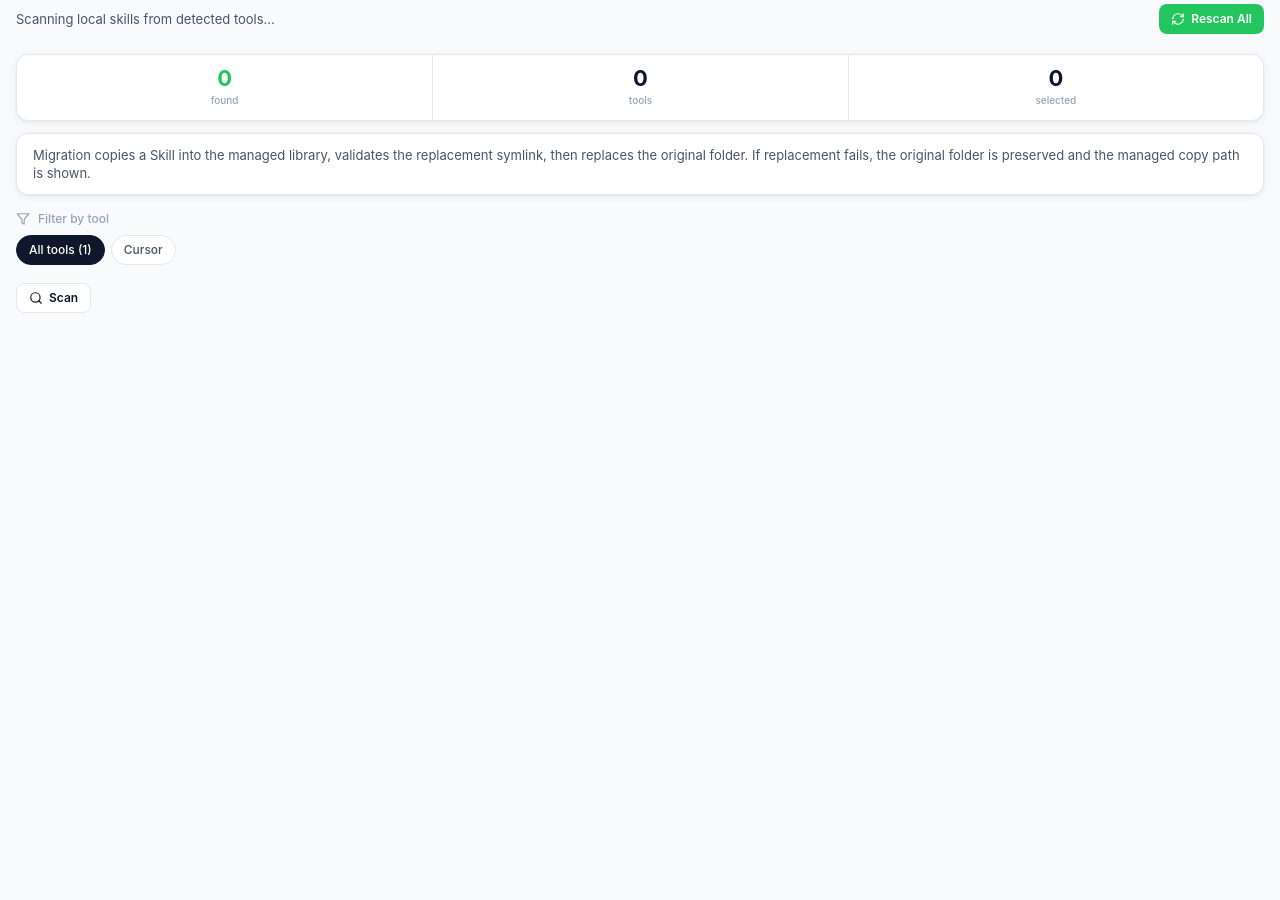
it: MigratePage › shows Selected 1 in toolbar after checking one skill
The image size is (1280, 900).
Expected: the tab "Cursor" is shown, [111,235,176,265]
What coordinates should you click on to do the following:
click the button "Scan"
I would click on:
 (54, 298)
Its box is [16,283,91,313].
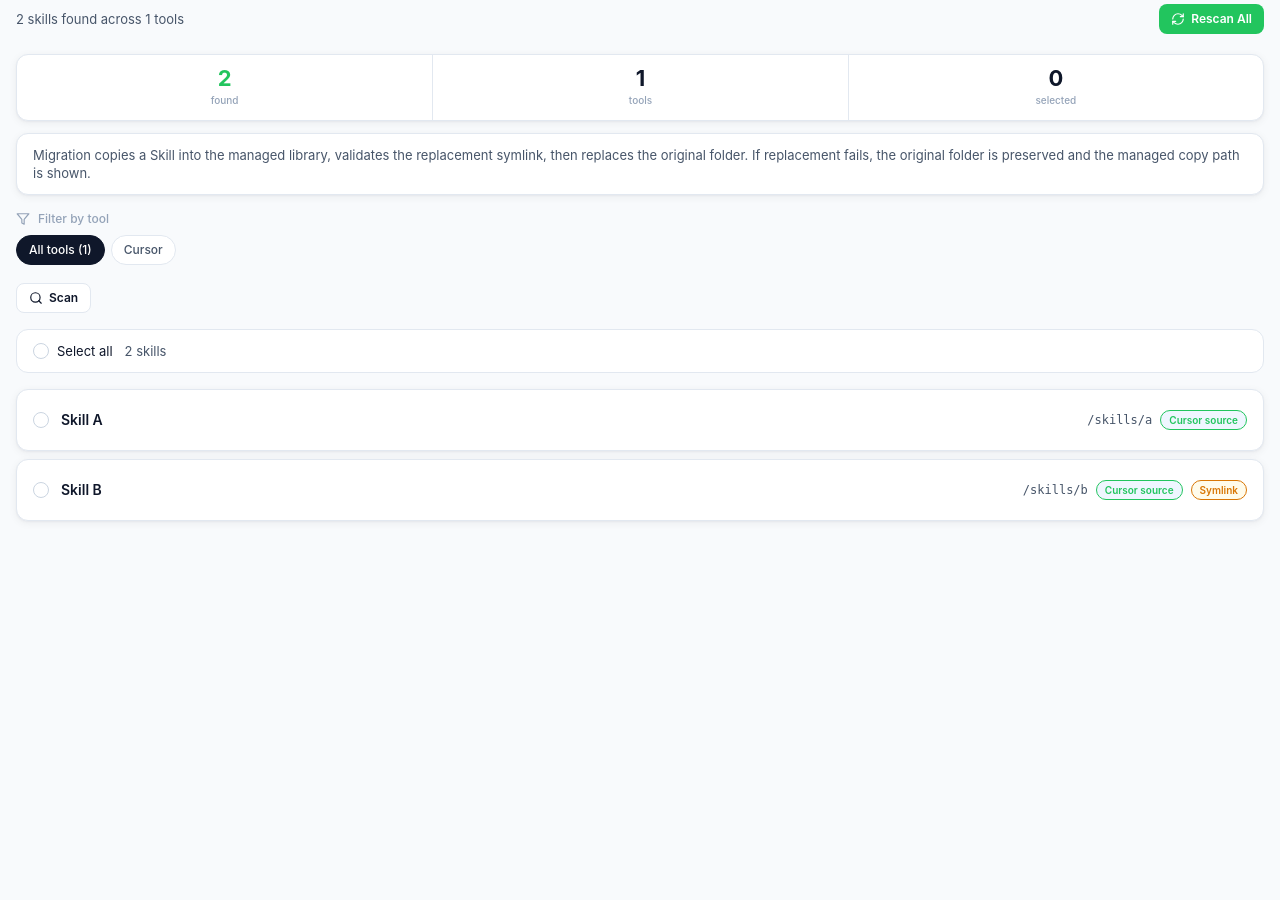
Expected: the text "Skill A" is shown, [61,411,103,428]
What coordinates should you click on to do the following:
click the checkbox named "Select Skill A"
I would click on:
 (41, 420)
Its box is [33,412,49,428].
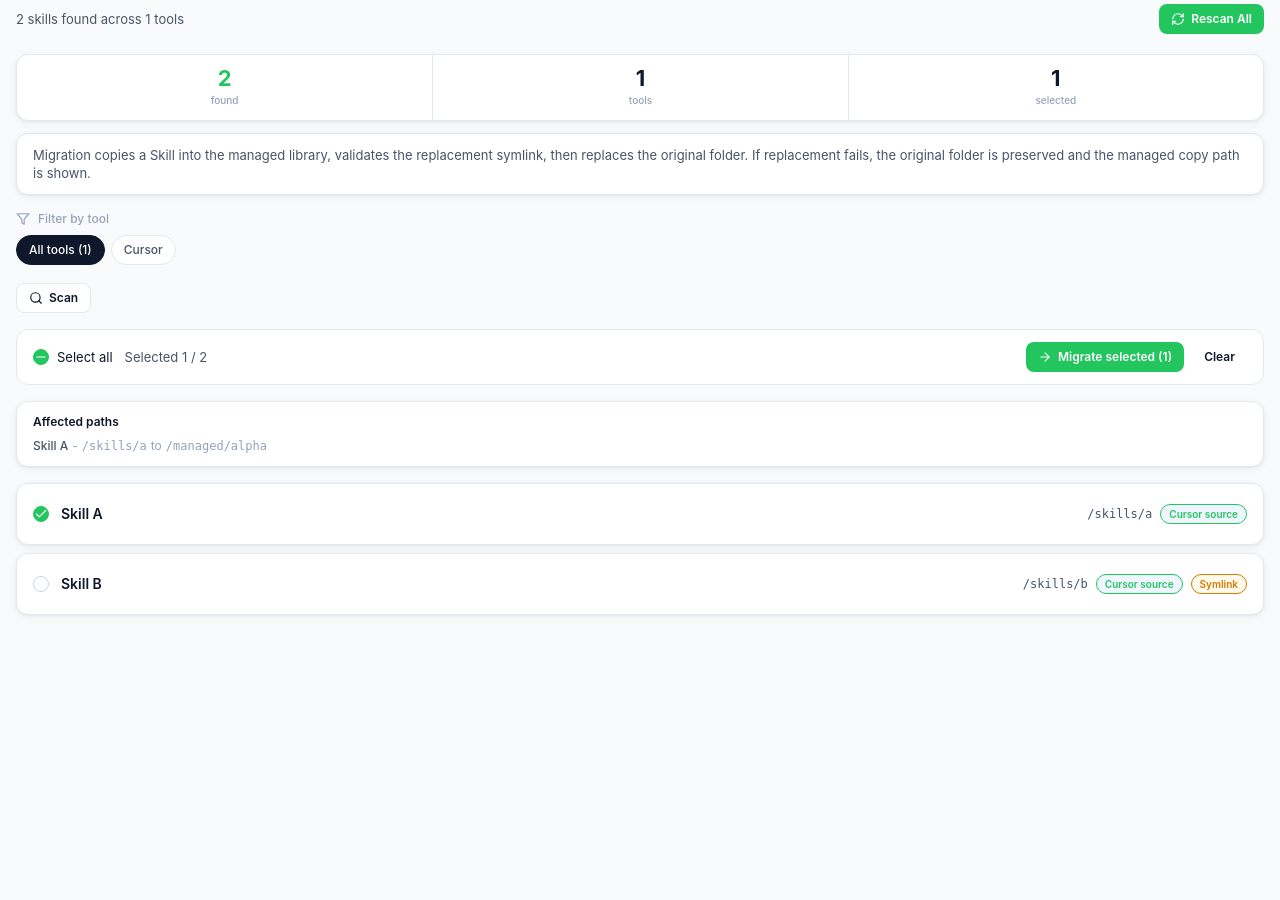
Expected: the text "Selected 1 / 2" is shown, [125,348,207,366]
